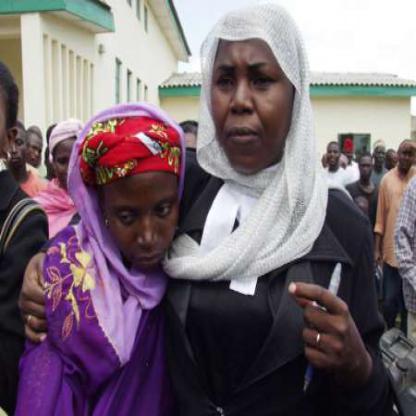face: (210, 1, 298, 178), (106, 127, 181, 275), (5, 123, 29, 172), (26, 130, 44, 171), (401, 142, 416, 172), (329, 144, 341, 167), (362, 158, 374, 180), (378, 145, 388, 166)
